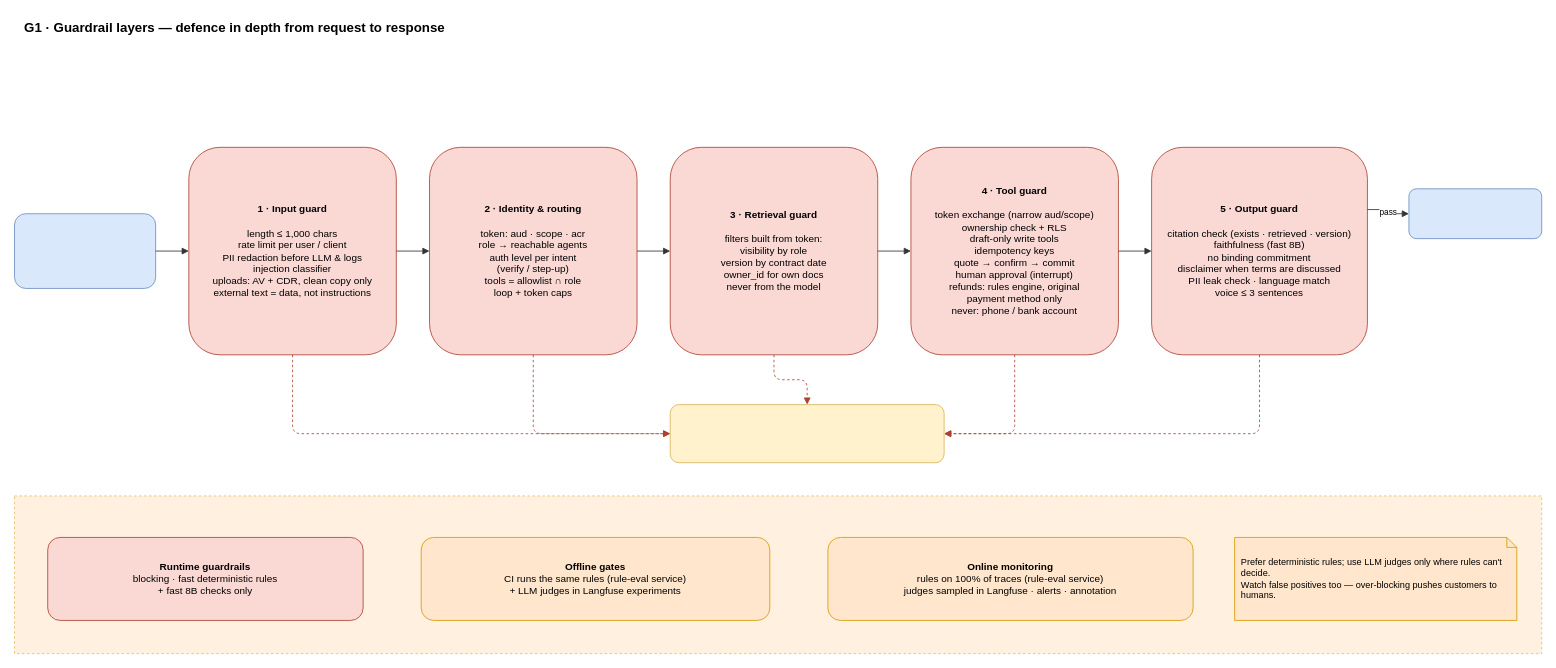
Some shapes in this 1556 by 668 pixel diagram are drawn without their labels. Here are the shapes that lost their labels. From the top down, the box of each, then its label:
(1408, 188, 1542, 239): Answer (streamed)
(14, 213, 156, 288): Customer input (text · transcript · DTMF · upload)
(669, 404, 944, 463): Refuse · step-up · handoff (generic message, logged)
(14, 495, 1542, 654): Same rules, three uses (defined once in Git: evaluators/*.yaml)
